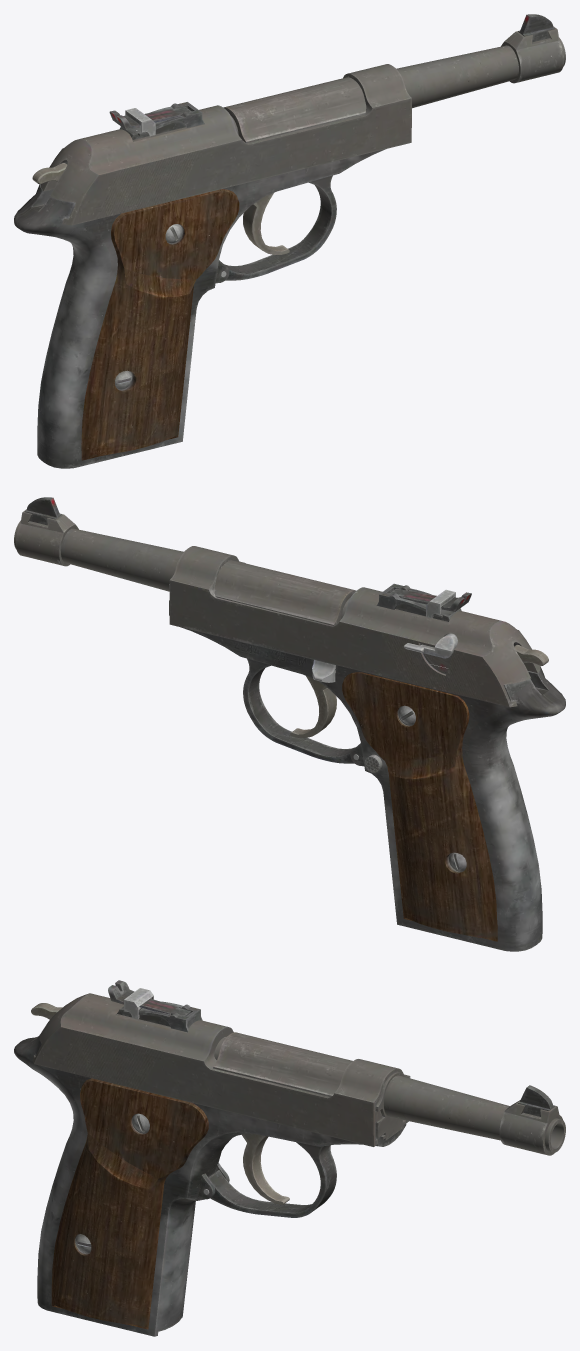
The model's file is service_pistol.glb.
The picture shows the model from 3 angles, top to bottom: view 1: azimuth 30°, elevation 25°; view 2: azimuth 150°, elevation 25°; view 3: azimuth 330°, elevation 25°; orthographic projection.
Parts seen in each view (by area): view 1: service_pistol_pistol_a, service_pistol_slide_a, service_pistol_trigger_a; view 2: service_pistol_pistol_a, service_pistol_slide_a, service_pistol_trigger_a; view 3: service_pistol_pistol_a, service_pistol_slide_a, service_pistol_trigger_a.
Boxes of the visible parts, x1,y1,x2,y2 form: service_pistol_pistol_a: (14, 14, 565, 468); service_pistol_slide_a: (41, 64, 411, 225); service_pistol_trigger_a: (243, 193, 289, 254); service_pistol_pistol_a: (14, 497, 565, 951); service_pistol_slide_a: (169, 546, 544, 707); service_pistol_trigger_a: (290, 676, 336, 737); service_pistol_pistol_a: (14, 1032, 565, 1336); service_pistol_slide_a: (32, 980, 410, 1146); service_pistol_trigger_a: (242, 1134, 289, 1204).
Size of the model in its own units: 0.2219 by 0.1295 by 0.0318.
1 material, 1 textured.
